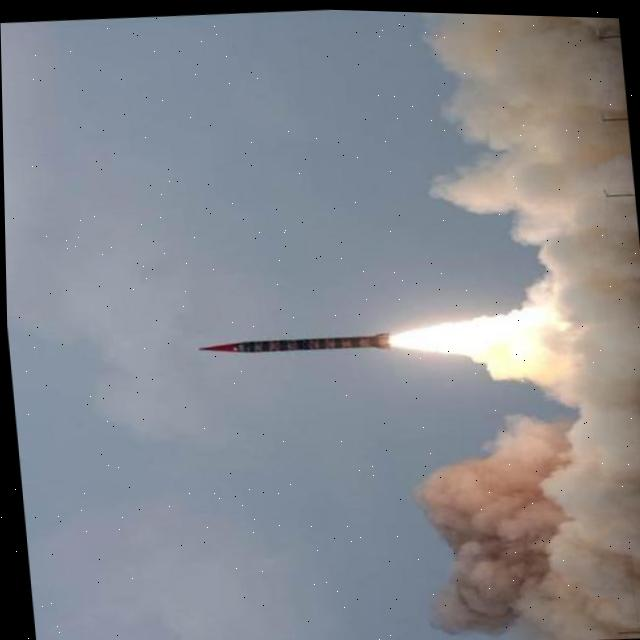missile: (195, 319, 397, 366)
